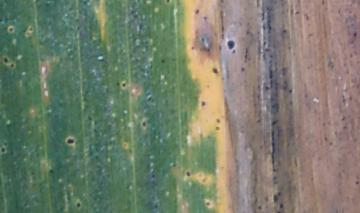tarspot: (226, 38, 235, 49), (66, 137, 76, 145), (47, 167, 56, 175), (7, 25, 14, 34), (211, 67, 219, 74), (239, 65, 246, 73), (120, 81, 127, 88), (294, 9, 301, 16), (141, 119, 147, 127), (200, 99, 206, 107), (194, 7, 200, 15), (214, 124, 220, 132), (204, 200, 212, 206), (1, 147, 7, 154), (185, 171, 192, 177), (202, 14, 209, 20), (10, 61, 15, 69), (76, 200, 81, 208), (353, 31, 358, 39), (160, 58, 166, 64), (215, 117, 221, 123), (4, 57, 9, 64), (258, 204, 263, 211), (279, 203, 285, 208), (354, 181, 360, 186), (283, 28, 288, 34), (289, 87, 293, 94), (28, 26, 33, 31), (165, 1, 171, 4)
